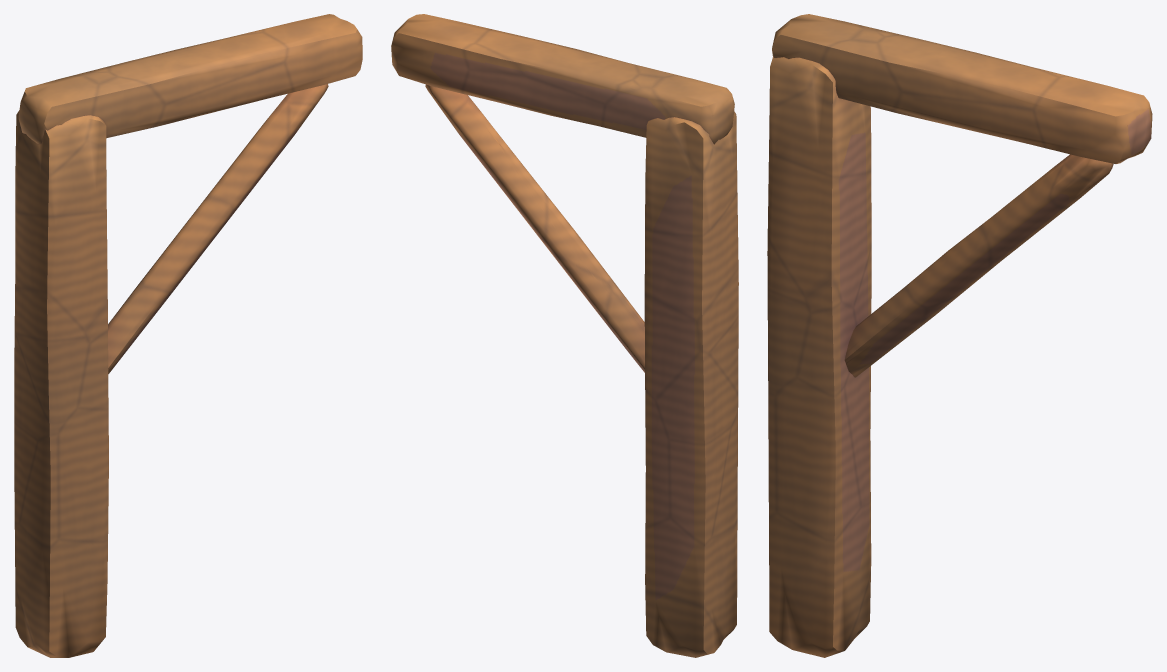
Rendered from T07_TimberSupport.fbx.
The picture shows the model from 3 angles, left to right: view 1: azimuth 30°, elevation 25°; view 2: azimuth 150°, elevation 25°; view 3: azimuth 330°, elevation 25°; orthographic projection. The views are drawn at different scales.
Visible parts, largest first — view 1: T07_TimberSupport; view 2: T07_TimberSupport; view 3: T07_TimberSupport.
Boxes of the visible parts, left/top/right/bottom form: T07_TimberSupport: left=14, top=14, right=362, bottom=657; T07_TimberSupport: left=391, top=14, right=738, bottom=657; T07_TimberSupport: left=767, top=14, right=1152, bottom=657.
Bounding box in the file's own units: 1 × 1.65 × 0.2.
